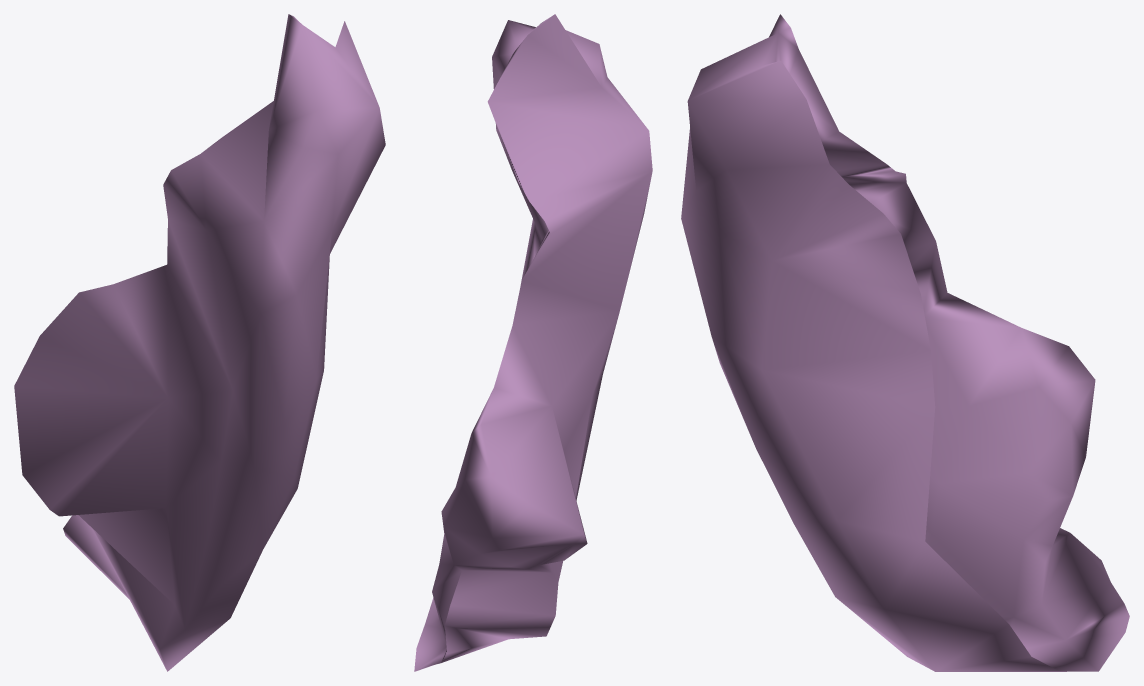
3 renders of one model, left to right at view 1: azimuth 30°, elevation 25°; view 2: azimuth 150°, elevation 25°; view 3: azimuth 270°, elevation 25°, orthographic. The views are drawn at different scales.
Parts seen in each view (by area): view 1: 左侧颞下沟; view 2: 左侧颞下沟; view 3: 左侧颞下沟.
Part boxes in pixels (left/top/right/bottom): 左侧颞下沟: left=14, top=14, right=385, bottom=671; 左侧颞下沟: left=414, top=14, right=652, bottom=671; 左侧颞下沟: left=681, top=14, right=1129, bottom=671.
Bounding box in the file's own units: 0.0162 × 0.0487 × 0.0296.
